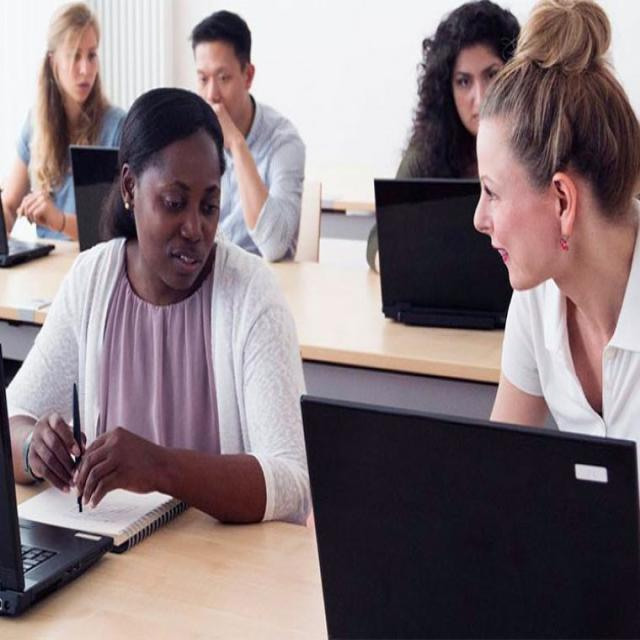adult: (0, 87, 312, 524), (469, 2, 640, 488), (361, 4, 524, 308), (190, 8, 307, 266), (3, 5, 125, 245)
